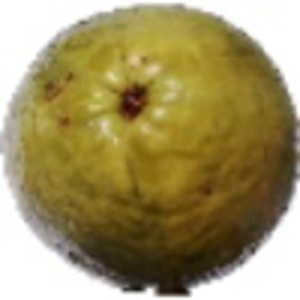goiaba: (3, 3, 300, 288)
